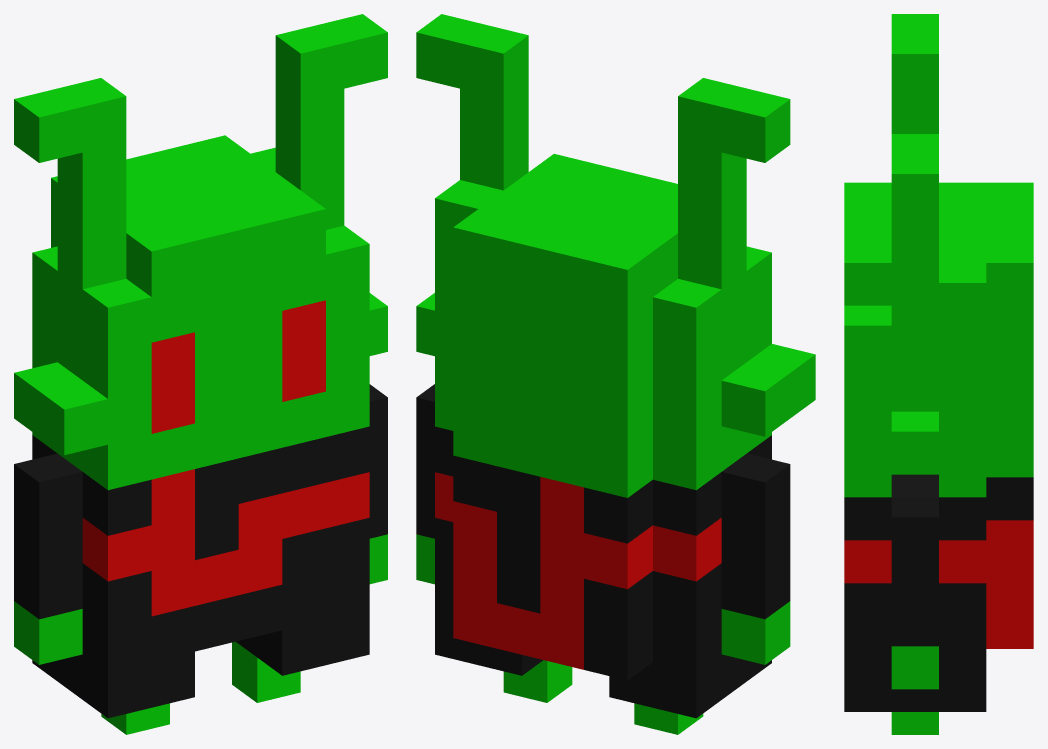
Rendered from Alien1.obj.
3 views of the same model, side by side, from view 1: azimuth 30°, elevation 25°; view 2: azimuth 150°, elevation 25°; view 3: azimuth 270°, elevation 25° (orthographic). The views are drawn at different scales.
Bounding box in the file's own units: 8 × 14 × 4.
1 material, 1 textured.
